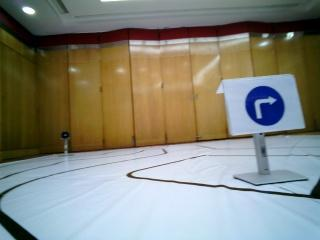right: (223, 79, 307, 129)
